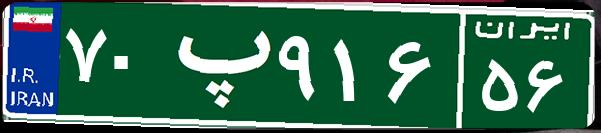0: (110, 28, 158, 105)
1: (330, 28, 385, 110)
5: (475, 38, 525, 113)
6: (385, 28, 445, 110), (525, 38, 570, 115)
7: (57, 26, 110, 107)
9: (273, 28, 330, 110)
پ: (158, 15, 273, 115)
